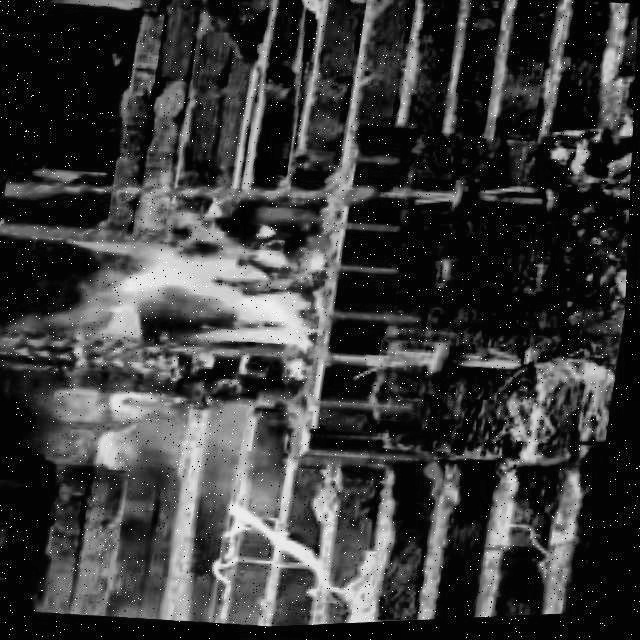Fire: (106, 231, 332, 361)
